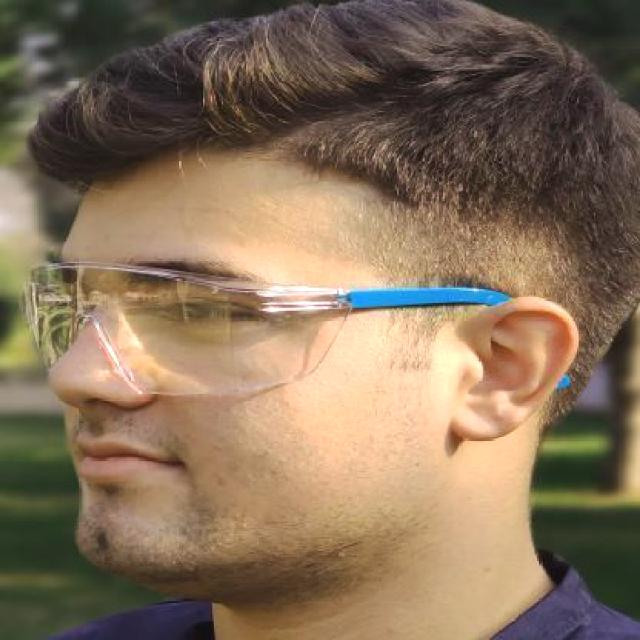face_nomask: (46, 242, 262, 521)
glasses: (24, 257, 578, 401)
head_nohelmet: (45, 0, 569, 243)
